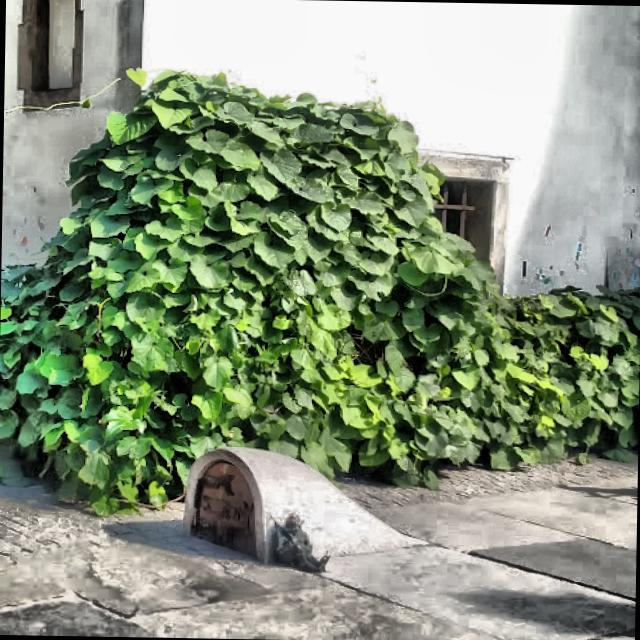Spioch: (270, 513, 327, 571)
